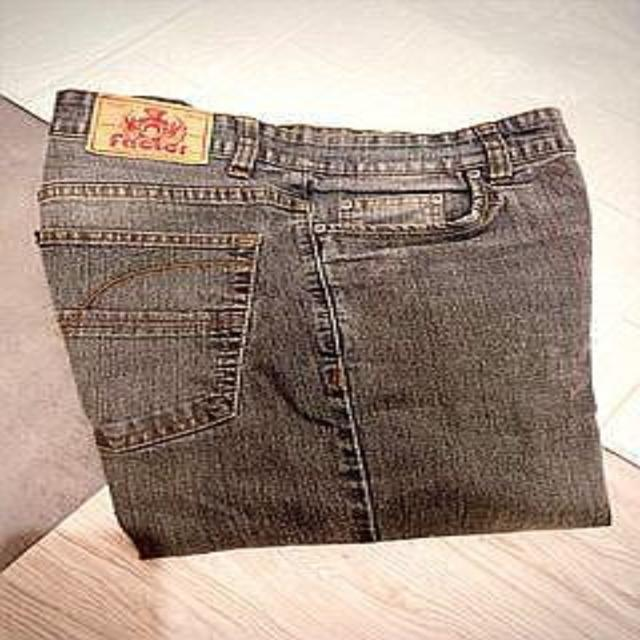SHORT: (29, 74, 620, 581)
